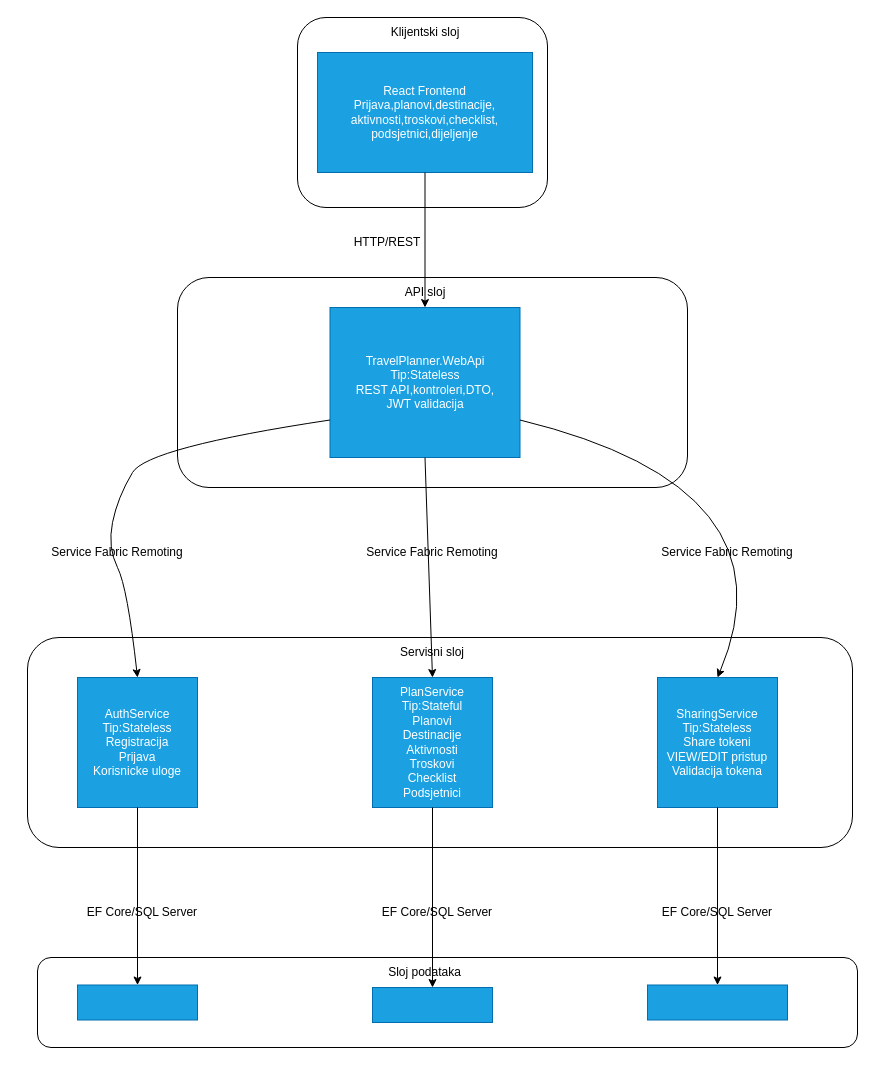
Some shapes in this 875 by 1065 pixel diagram are drawn without their labels. The shapes that lost their labels are listed below. From the top down, each one's box as (x1, y1, x2, y2) in pixels, then its label:
(76, 984, 198, 1020): TravelPlannerAuthDb
(372, 986, 492, 1022): TravelPlannerPlanDb
(646, 984, 788, 1020): TravelPlannerSharingDb
